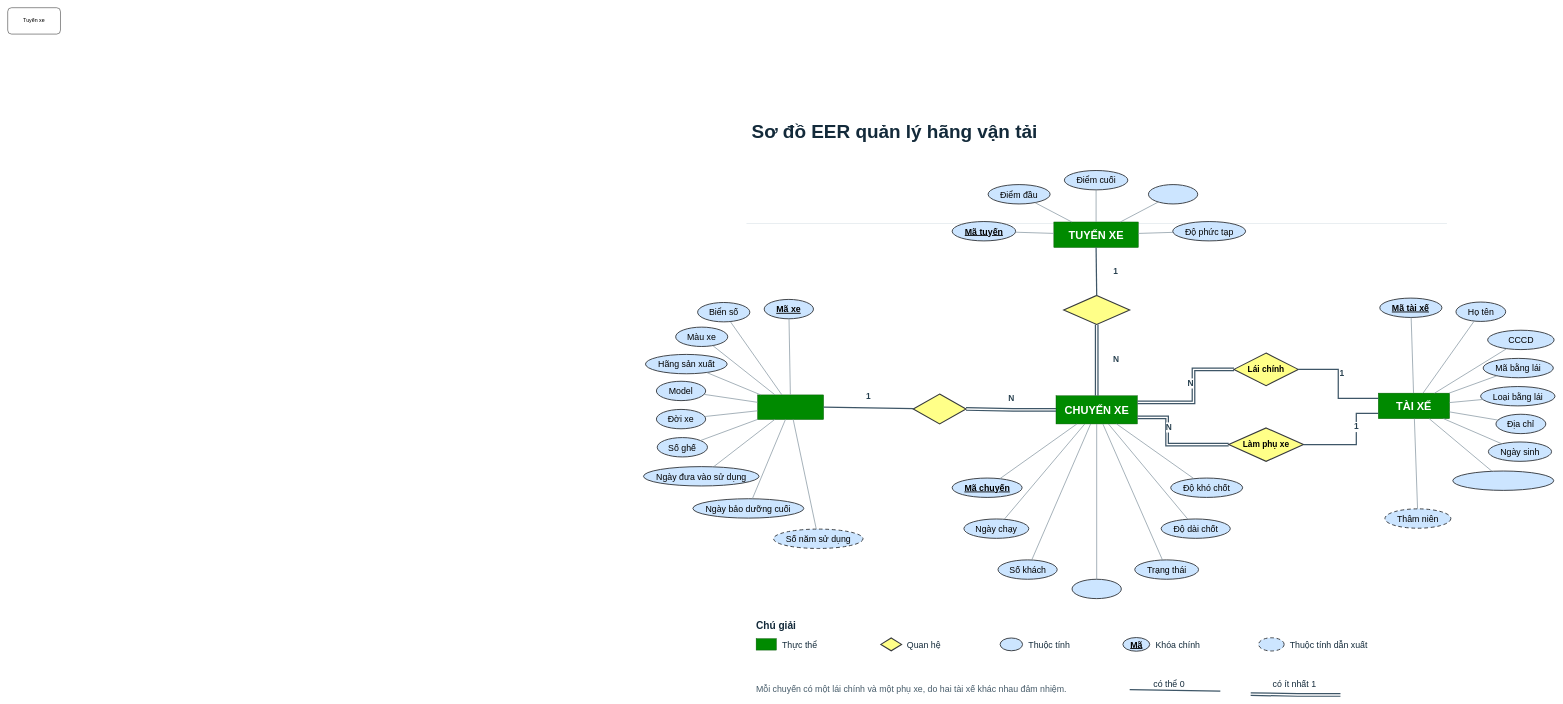
Some shapes in this 1563 by 704 pixel diagram are drawn without their labels. Each missing label, with the centre of its shape:
Chạy: the point at 939,408
Có chuyến: the point at 1096,310
Giá vé: the point at 1096,589
Ngày bắt đầu lái xe: the point at 1503,480
XE: the point at 790,407
Độ dài: the point at 1173,194
